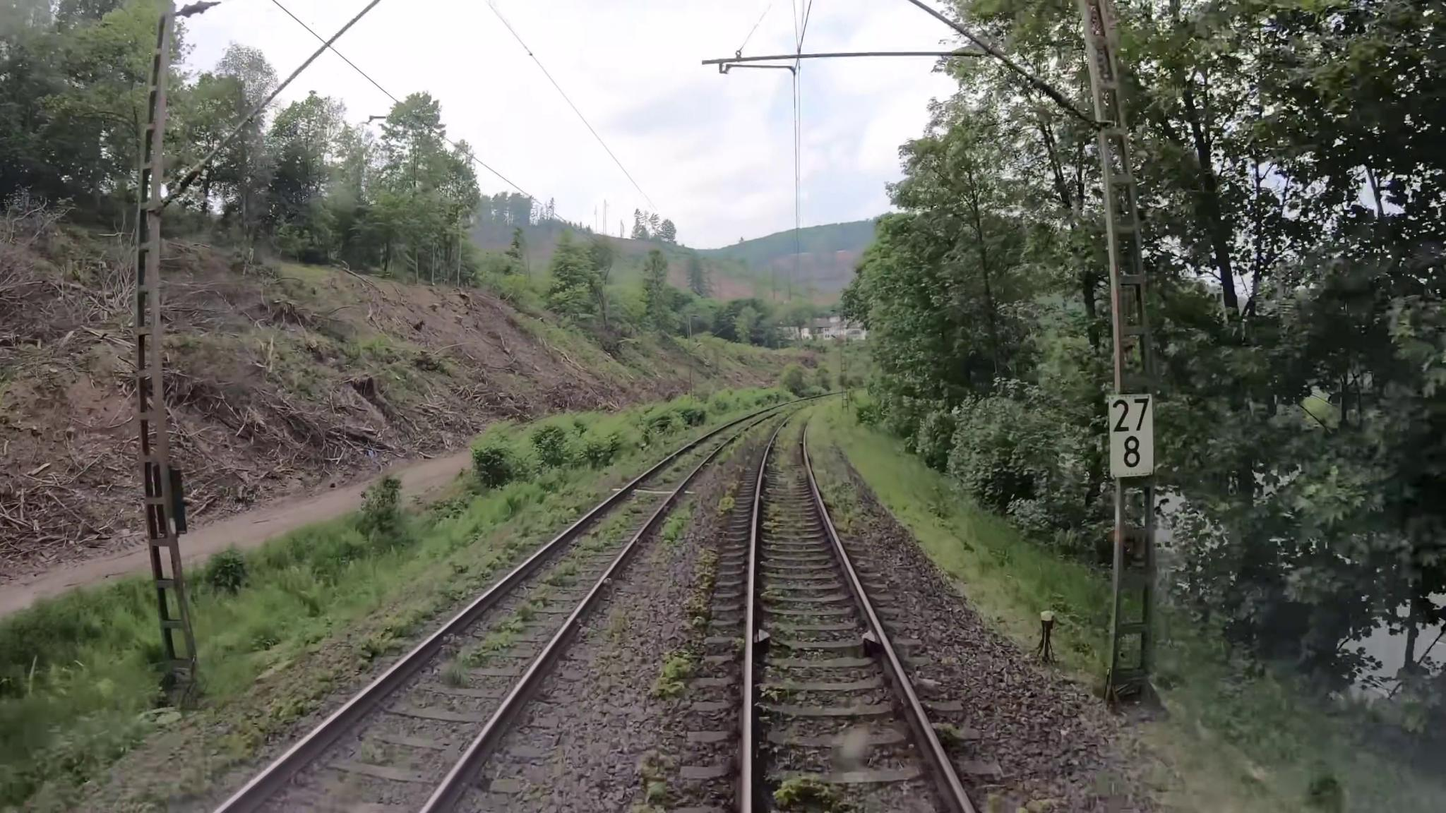Plant: (431, 413, 778, 685), (627, 416, 782, 811), (764, 586, 858, 729), (808, 399, 887, 537), (764, 404, 826, 550), (769, 774, 868, 810)
